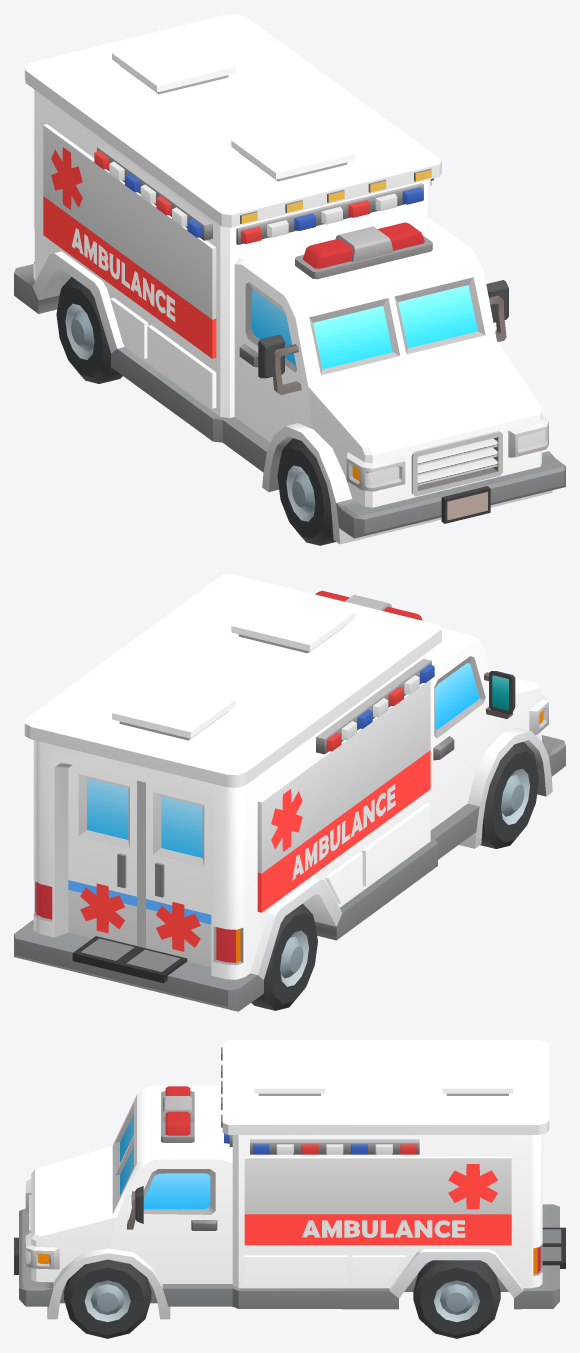
File: city2-ambulance-01.glb
3 views of the same model, one above another, from view 1: azimuth 30°, elevation 25°; view 2: azimuth 150°, elevation 25°; view 3: azimuth 270°, elevation 25° (orthographic). The views are drawn at different scales.
Visible parts, largest first — view 1: Ambulance_01, Wheel_169, Wheel_170; view 2: Ambulance_01, Wheel_169, Wheel_170; view 3: Ambulance_01, Wheel_172, Wheel_171.
Boxes of the visible parts, x1,y1,x2,y2 form: Ambulance_01: (14,14,565,544); Wheel_169: (277,438,335,545); Wheel_170: (56,277,122,383); Ambulance_01: (14,574,565,1011); Wheel_169: (480,742,538,848); Wheel_170: (251,903,317,1010); Ambulance_01: (14,1040,565,1319); Wheel_172: (413,1260,500,1338); Wheel_171: (64,1259,151,1338).
Bounding box in the file's own units: 2.65 × 2.93 × 6.49.
2 materials, 2 textured.
